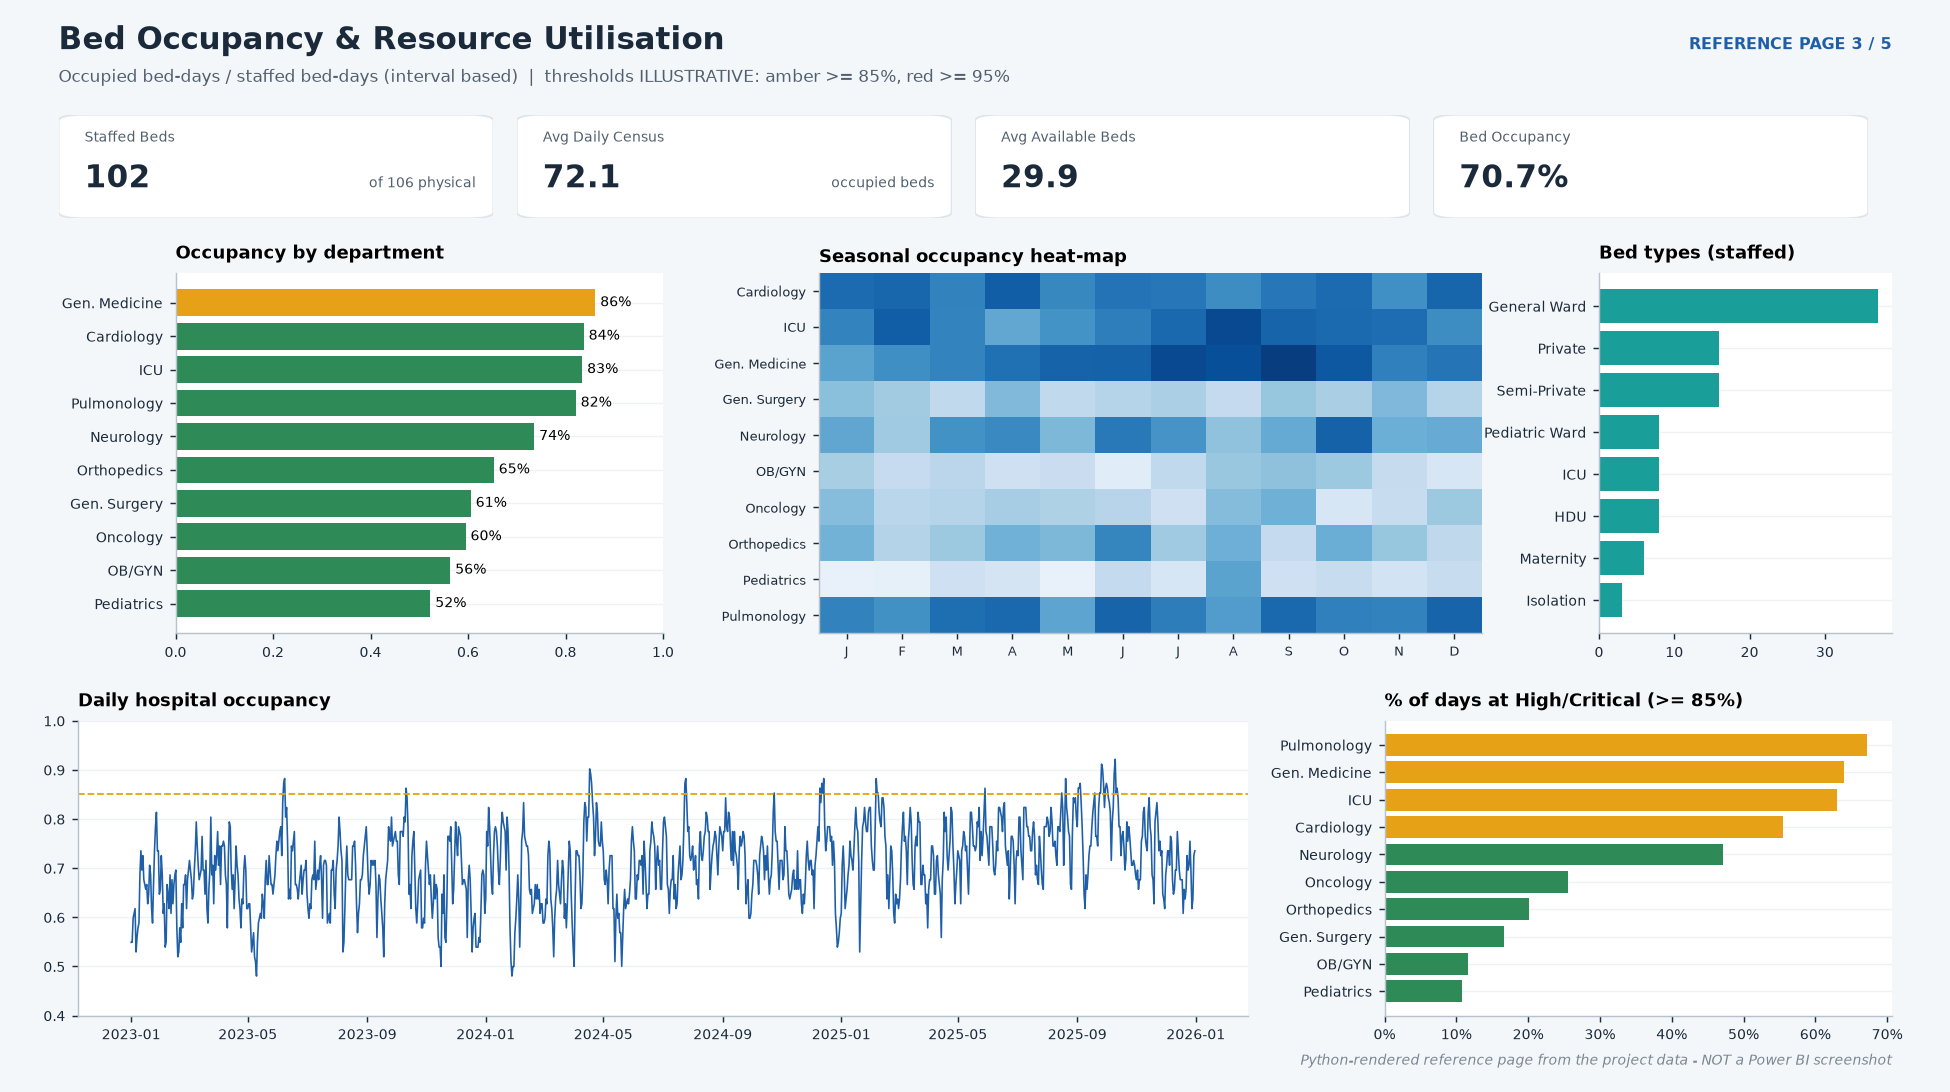

Layout of this report page (visuals, bound fields, positions):
{"tool":"powerbi","page":{"name":"Bed Occupancy & Resources","canvas":[1280,720],"ordinal":2},"visuals":[{"type":"textbox","box":[16,2,900,44],"z":100},{"type":"textbox","box":[16,42,1240,30],"z":200},{"type":"textbox","box":[780,690,484,30],"z":300},{"type":"slicer","title":"Year","fields":{"Values":["DimDate.Year"]},"box":[16,70,220,58],"z":400},{"type":"slicer","title":"Department","fields":{"Values":["DimDepartments.DepartmentName"]},"box":[248,70,220,58],"z":500},{"type":"slicer","title":"BOR high threshold","fields":{"Values":["BOR High Threshold.BOR High Threshold"]},"box":[480,70,150,58],"z":600},{"type":"slicer","title":"BOR critical threshold","fields":{"Values":["BOR Critical Threshold.BOR Critical Threshold"]},"box":[640,70,150,58],"z":700},{"type":"card","title":"Staffed beds","fields":{"Values":["_Measures.Staffed Beds"]},"box":[16,132,195,80],"z":800},{"type":"card","title":"Avg daily census","fields":{"Values":["_Measures.Avg Daily Census"]},"box":[223,132,195,80],"z":900},{"type":"card","title":"Avg free staffed beds","fields":{"Values":["_Measures.Available Bed Count"]},"box":[430,132,195,80],"z":1000},{"type":"card","title":"Bed occupancy rate","fields":{"Values":["_Measures.Bed Occupancy Rate"]},"box":[637,132,195,80],"z":1100},{"type":"clusteredBarChart","title":"Occupancy by department (colour = status vs thresholds)","fields":{"Category":["DimDepartments.DepartmentName"],"Y":["_Measures.Bed Occupancy Rate"]},"box":[16,222,408,460],"z":1200},{"type":"clusteredBarChart","title":"Staffed beds vs average census","fields":{"Category":["DimDepartments.DepartmentName"],"Y":["_Measures.Staffed Beds","_Measures.Avg Daily Census"]},"box":[436,222,408,460],"z":1300},{"type":"pivotTable","title":"Occupancy by department and month","fields":{"Rows":["DimDepartments.DepartmentName"],"Columns":["DimDate.MonthShort"],"Values":["_Measures.Bed Occupancy Rate"]},"box":[856,222,408,230],"z":1400},{"type":"scatterChart","title":"Bed pressure vs doctor utilisation","fields":{"Category":["DimDepartments.DepartmentName"],"X":["_Measures.Bed Occupancy Rate"],"Y":["_Measures.Doctor Utilization Rate"],"Size":["_Measures.Total Admissions"]},"box":[856,464,408,218],"z":1500}]}

Visuals, with their boxes in screenshot pixels (x1, y1, x2, y2), scaled from the page's 1280x720 canvas onto the 1950x1092 screenshot:
textbox: <box>24,3,1395,70</box>
textbox: <box>24,64,1913,109</box>
textbox: <box>1188,1046,1926,1091</box>
"Year" slicer: <box>24,106,360,194</box>
"Department" slicer: <box>378,106,713,194</box>
"BOR high threshold" slicer: <box>731,106,960,194</box>
"BOR critical threshold" slicer: <box>975,106,1204,194</box>
"Staffed beds" card: <box>24,200,321,322</box>
"Avg daily census" card: <box>340,200,637,322</box>
"Avg free staffed beds" card: <box>655,200,952,322</box>
"Bed occupancy rate" card: <box>970,200,1268,322</box>
"Occupancy by department (colour = status vs thresholds)" clusteredBarChart: <box>24,337,646,1034</box>
"Staffed beds vs average census" clusteredBarChart: <box>664,337,1286,1034</box>
"Occupancy by department and month" pivotTable: <box>1304,337,1926,686</box>
"Bed pressure vs doctor utilisation" scatterChart: <box>1304,704,1926,1034</box>
